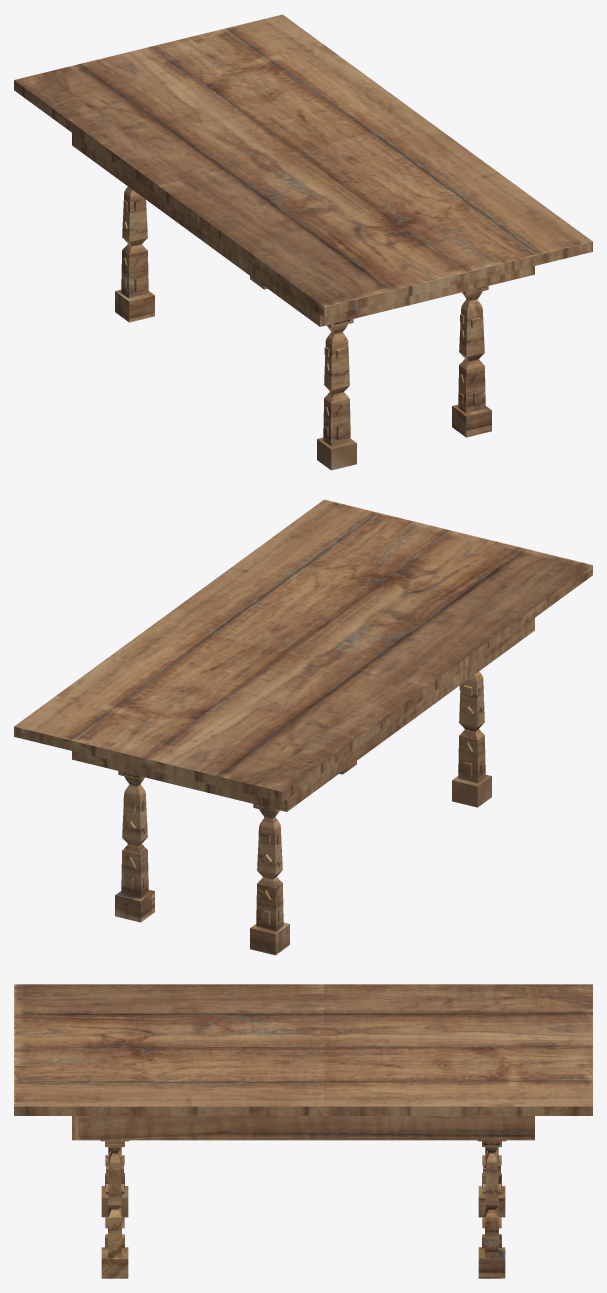
The model's file is table2.fbx.
3 renders of one model, top to bottom at view 1: azimuth 30°, elevation 25°; view 2: azimuth 150°, elevation 25°; view 3: azimuth 270°, elevation 25°, orthographic. The views are drawn at different scales.
Visible parts, largest first — view 1: Table; view 2: Table; view 3: Table.
Boxes of the visible parts, left/top/right/bottom form: Table: left=14, top=14, right=592, bottom=470; Table: left=14, top=499, right=592, bottom=955; Table: left=14, top=984, right=592, bottom=1278.
Bounding box in the file's own units: 100 × 75.02 × 200.
